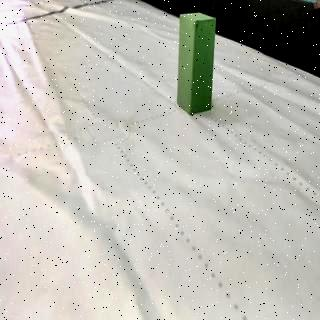greenbox: (178, 12, 216, 118)
